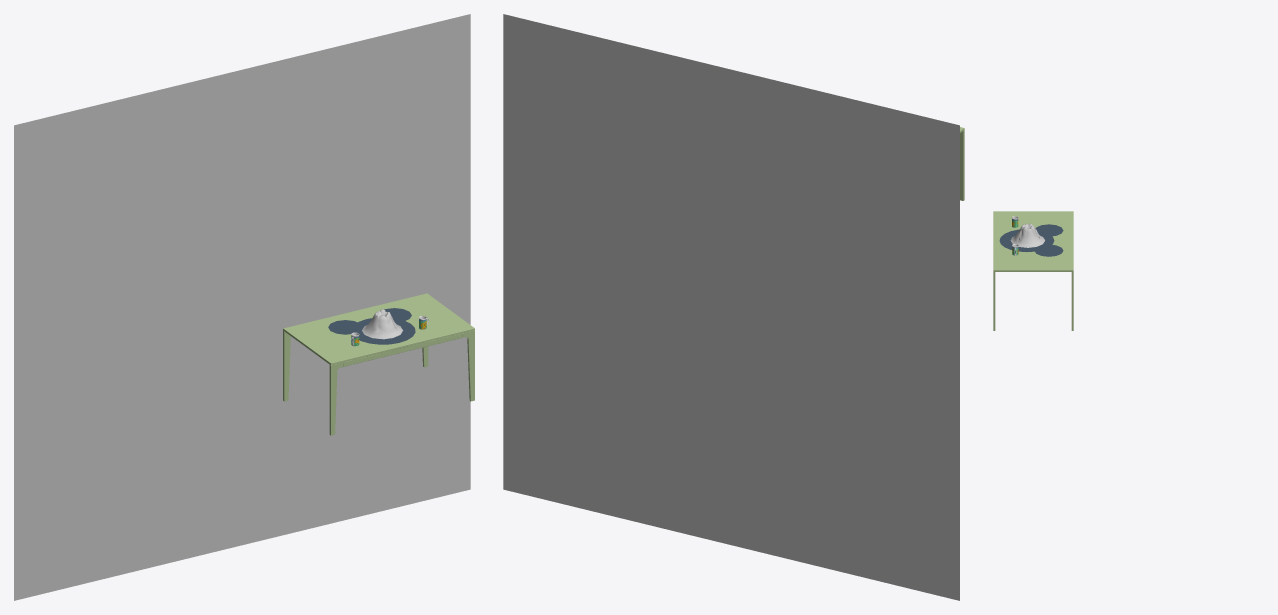
File: aidisheng.FBX
The picture shows the model from 3 angles, left to right: view 1: azimuth 30°, elevation 25°; view 2: azimuth 150°, elevation 25°; view 3: azimuth 270°, elevation 25°; orthographic projection. The views are drawn at different scales.
Parts seen in each view (by area): view 1: Plane002, Archmodels72_AL, Cylinder001, Cylinder005; view 2: Plane002; view 3: Archmodels72_AL, Cylinder001, Cylinder005.
Part boxes in pixels (x1,y1,x2,y2): Plane002: [14, 14, 470, 600]; Archmodels72_AL: [283, 293, 474, 435]; Cylinder001: [328, 308, 415, 344]; Cylinder005: [362, 309, 402, 339]; Plane002: [503, 14, 959, 600]; Archmodels72_AL: [993, 211, 1073, 330]; Cylinder001: [999, 224, 1063, 256]; Cylinder005: [1010, 223, 1044, 247].
Bounding box in the file's own units: 4.96 × 3.03 × 4.94.
